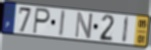2: (99, 14, 116, 42)
7: (18, 5, 33, 33)
I: (58, 9, 67, 38), (121, 15, 130, 44)
N: (74, 11, 94, 40)
P: (31, 6, 51, 35)
